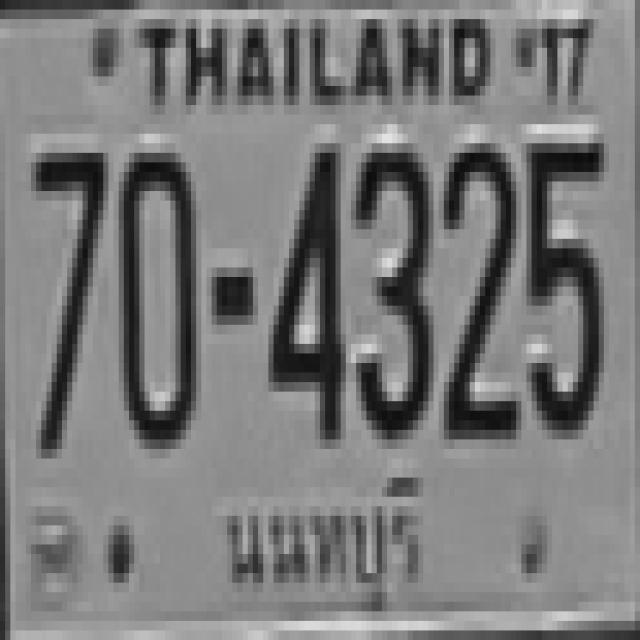0: (114, 143, 191, 440)
2: (441, 134, 514, 430)
3: (351, 134, 428, 430)
4: (266, 138, 338, 434)
5: (524, 134, 601, 430)
7: (31, 143, 103, 449)
Nonthaburi: (215, 473, 435, 611)
